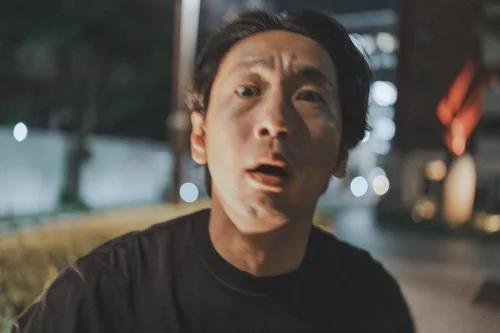human: (11, 10, 421, 332)
